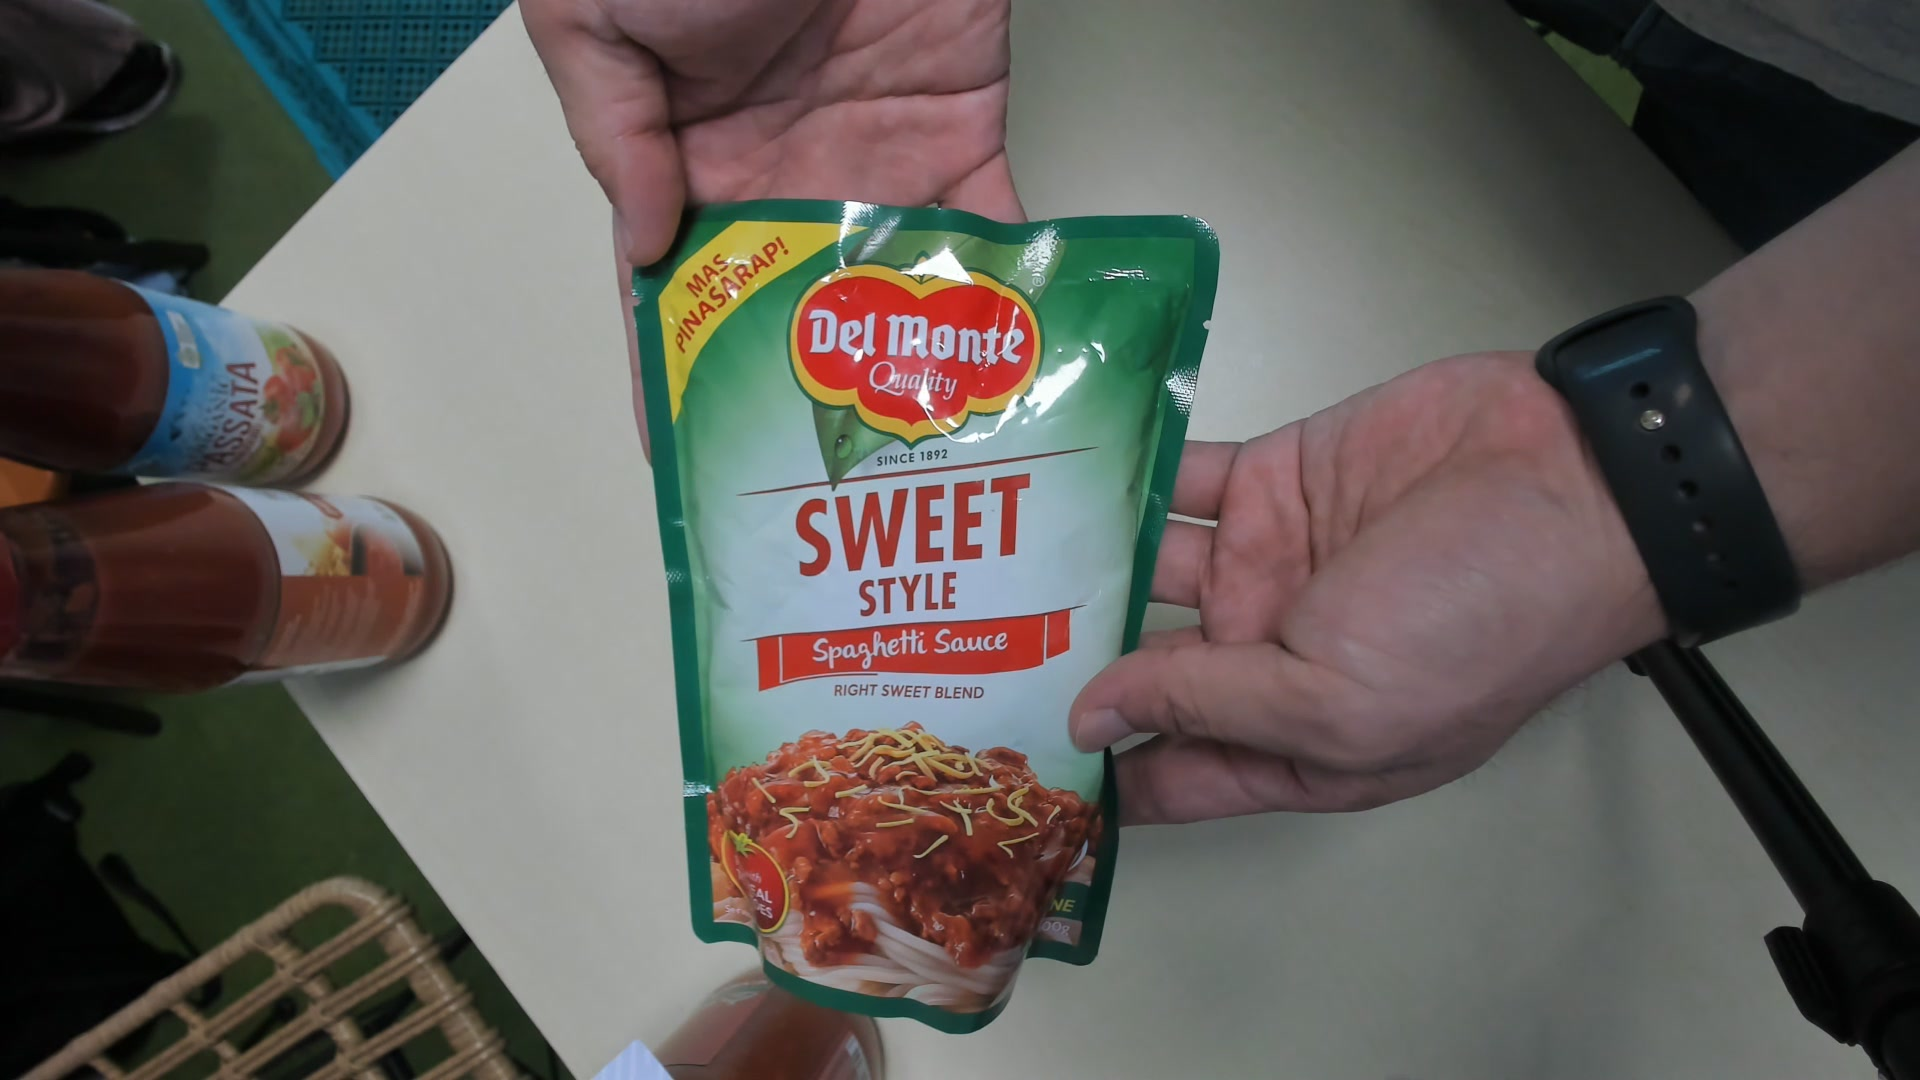PastaSauce_500-599g_Halal_NonHealthy: (640, 199, 1171, 1027)
